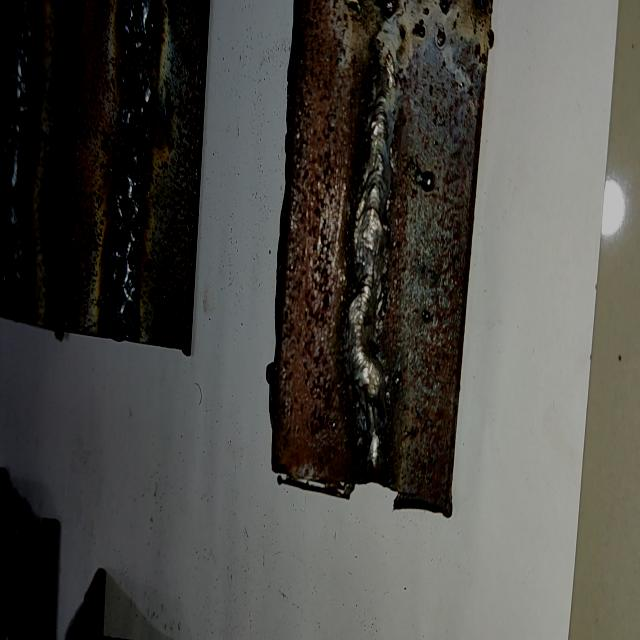Bad Weld: (107, 0, 153, 329), (8, 0, 33, 312)
Defect: (119, 0, 149, 337), (348, 0, 487, 55), (7, 2, 30, 305)
Good Weld: (339, 79, 401, 474)
